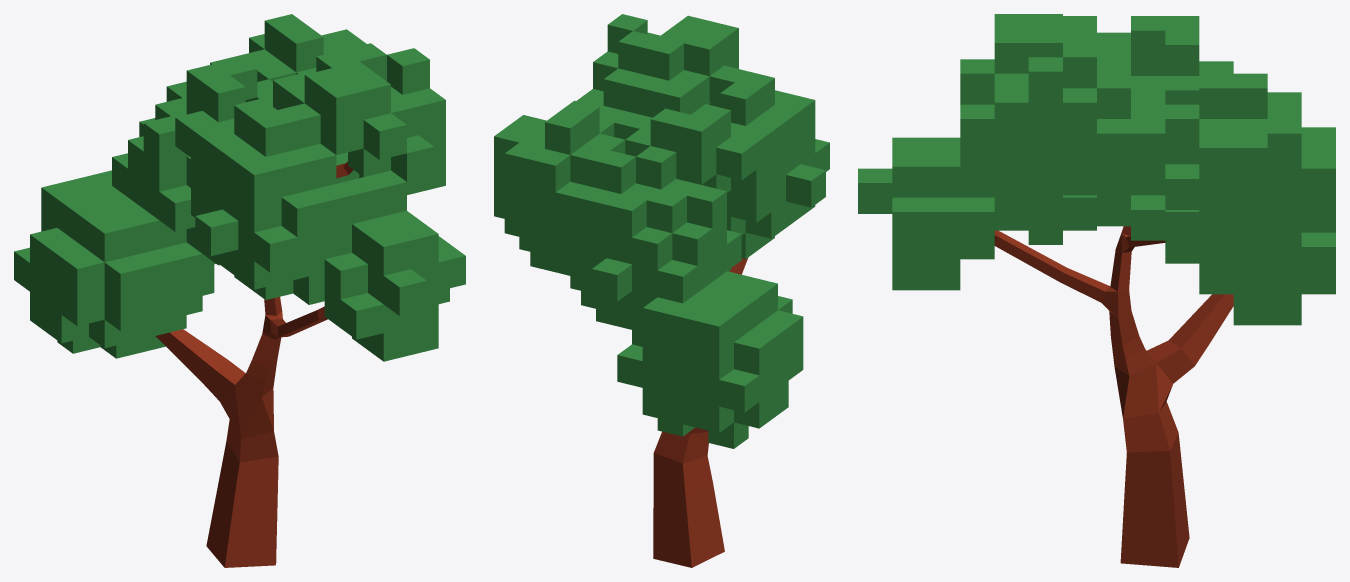
The model's file is Baum02.fbx.
3 renders of one model, left to right at view 1: azimuth 30°, elevation 25°; view 2: azimuth 150°, elevation 25°; view 3: azimuth 270°, elevation 25°, orthographic. The views are drawn at different scales.
Visible parts, largest first — view 1: Sphere.004, Cube; view 2: Sphere.004, Cube; view 3: Sphere.004, Cube.
Boxes of the visible parts, x1=… form: Sphere.004: x1=14, y1=14, x2=465, y2=361; Cube: x1=155, y1=161, x2=353, y2=567; Sphere.004: x1=494, y1=14, x2=829, y2=448; Cube: x1=653, y1=258, x2=747, y2=567; Sphere.004: x1=858, y1=14, x2=1335, y2=325; Cube: x1=994, y1=226, x2=1233, y2=567.
Bounding box in the file's own units: 313 × 506 × 398.
